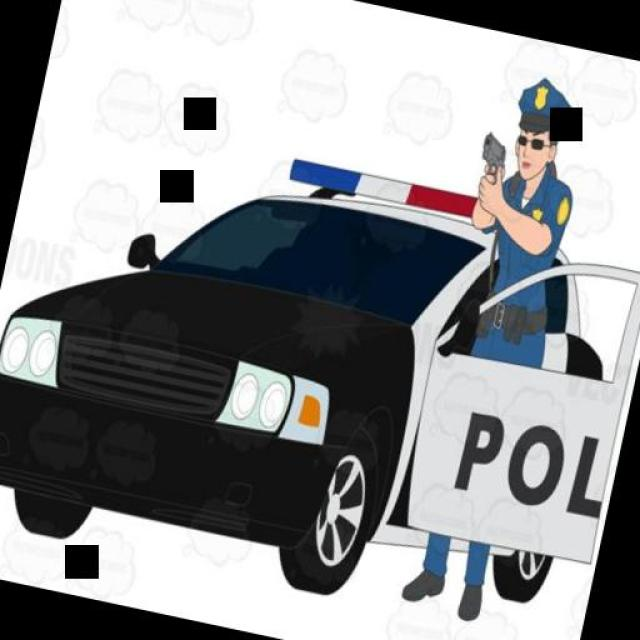gun: (467, 123, 515, 195)
